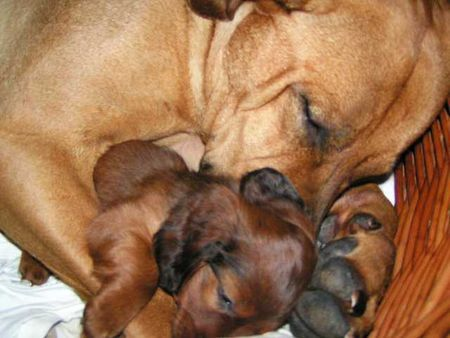tosa_inu: (0, 0, 450, 338), (17, 139, 317, 338)
